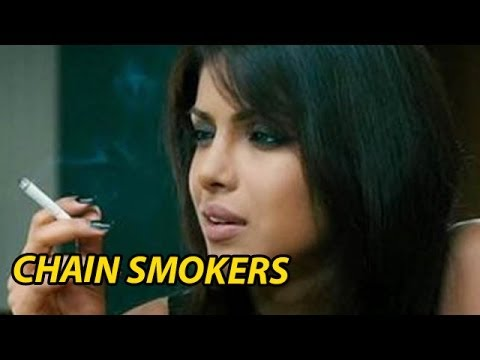cigarette: (6, 165, 112, 236)
